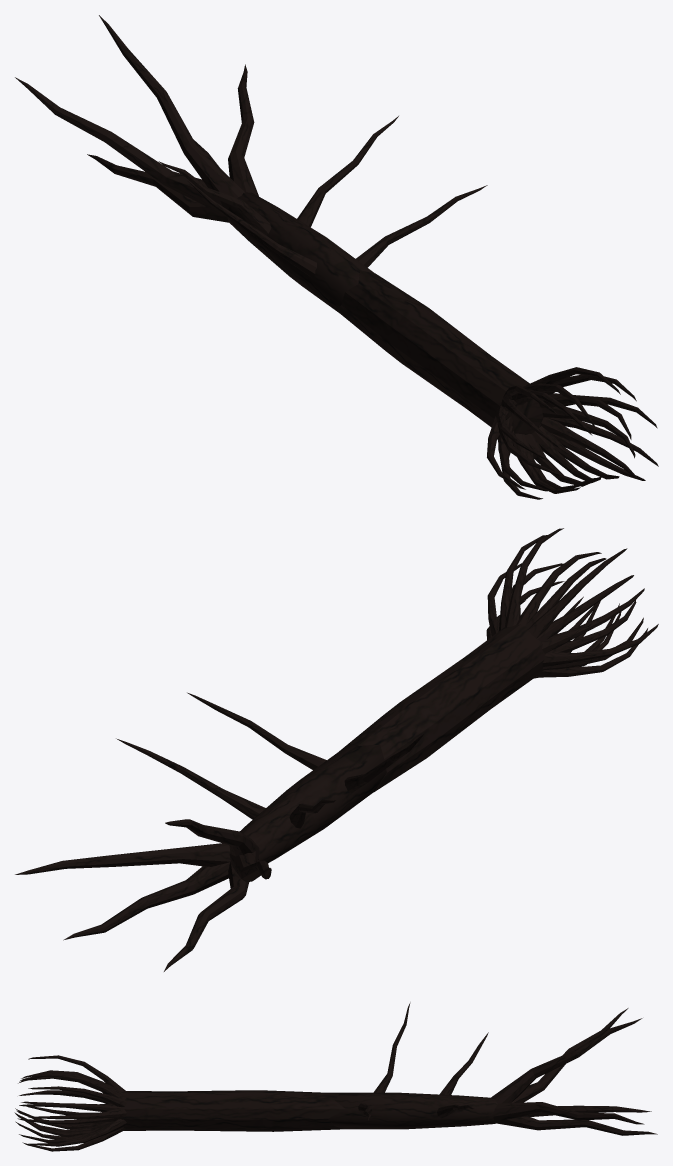
Rendered from tronco.fbx.
The picture shows the model from 3 angles, top to bottom: view 1: azimuth 30°, elevation 25°; view 2: azimuth 150°, elevation 25°; view 3: azimuth 270°, elevation 25°; orthographic projection. The views are drawn at different scales.
Visible parts, largest first — view 1: tronco:Group3, tronco:Group2, tronco:Group9, tronco:Group6, tronco:Group7, tronco:Group8, tronco:Group5, tronco:Group11, tronco:Group13, tronco:Group12, Group19, Group21 (+1 smaller); view 2: tronco:Group3, tronco:Group2, tronco:Group7, tronco:Group10, tronco:Group8, tronco:Group11, tronco:Group9, tronco:Group13, Group6, Group10, Group8, Group25 (+8 smaller); view 3: tronco:Group3, tronco:Group2, tronco:Group9, tronco:Group7, tronco:Group10, tronco:Group6, tronco:Group8, Group20, Group22, Group24, tronco:Group5, Group23 (+12 smaller).
Boxes of the visible parts, bbox=[...] form: tronco:Group3: bbox=[336, 270, 543, 434]; tronco:Group2: bbox=[227, 192, 373, 312]; tronco:Group9: bbox=[99, 15, 244, 209]; tronco:Group6: bbox=[15, 77, 224, 214]; tronco:Group7: bbox=[228, 64, 258, 196]; tronco:Group8: bbox=[87, 154, 228, 222]; tronco:Group5: bbox=[187, 180, 316, 277]; tronco:Group11: bbox=[297, 116, 398, 227]; tronco:Group13: bbox=[356, 185, 487, 267]; tronco:Group12: bbox=[158, 161, 271, 235]; Group19: bbox=[540, 417, 636, 478]; Group21: bbox=[542, 407, 635, 458]; tronco:Group3: bbox=[339, 624, 545, 792]; tronco:Group2: bbox=[229, 744, 386, 865]; tronco:Group7: bbox=[15, 843, 230, 874]; tronco:Group10: bbox=[63, 862, 230, 940]; tronco:Group8: bbox=[164, 862, 249, 971]; tronco:Group11: bbox=[116, 738, 265, 819]; tronco:Group9: bbox=[165, 819, 259, 859]; tronco:Group13: bbox=[187, 692, 326, 769]; Group6: bbox=[527, 548, 627, 638]; Group10: bbox=[542, 624, 658, 666]; Group8: bbox=[542, 588, 644, 653]; Group25: bbox=[505, 528, 563, 627]; tronco:Group3: bbox=[121, 1090, 345, 1131]; tronco:Group2: bbox=[327, 1092, 497, 1129]; tronco:Group9: bbox=[491, 1018, 642, 1103]; tronco:Group7: bbox=[493, 1102, 644, 1124]; tronco:Group10: bbox=[493, 1116, 657, 1135]; tronco:Group6: bbox=[511, 1008, 628, 1102]; tronco:Group8: bbox=[527, 1105, 651, 1116]; Group20: bbox=[28, 1119, 126, 1146]; Group22: bbox=[28, 1109, 126, 1119]; Group24: bbox=[28, 1086, 126, 1107]; tronco:Group5: bbox=[373, 1002, 410, 1092]; Group23: bbox=[19, 1103, 122, 1111].
Size of the model in its own units: 10.16 by 5.55 by 30.4.
